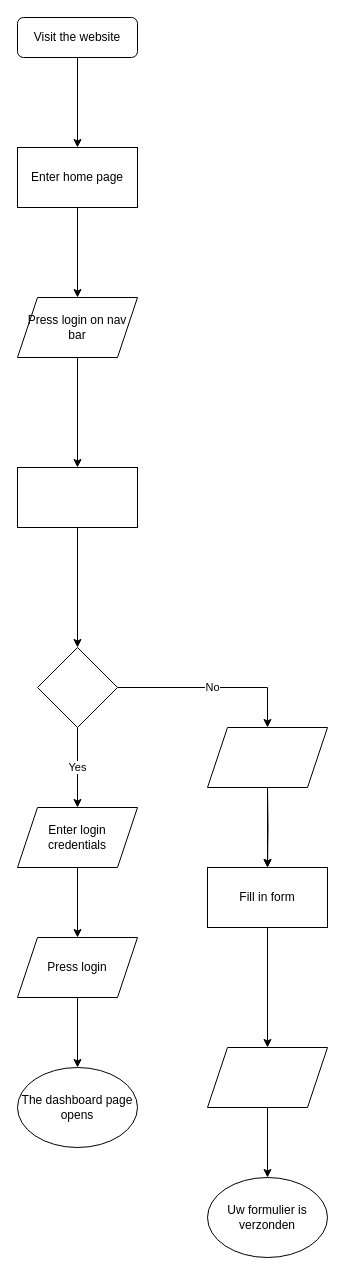
Some shapes in this 345 by 1275 pixel diagram are drawn without their labels. The shapes that lost their labels are listed below. From the top down, each one's centre as x and y in pixels, then its label:
At pixel 77 497: "Login page opens".
At pixel 77 687: "Person already has an account".
At pixel 267 757: "Press inschrijven".
At pixel 267 1077: "Press verzend".
